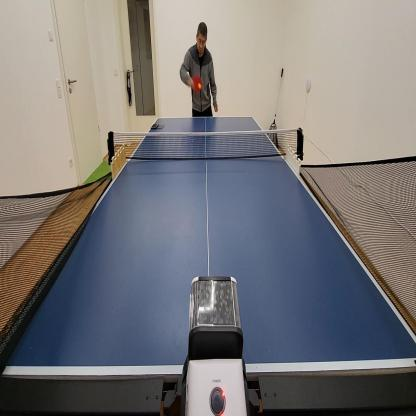Ball: (198, 82, 202, 90)
